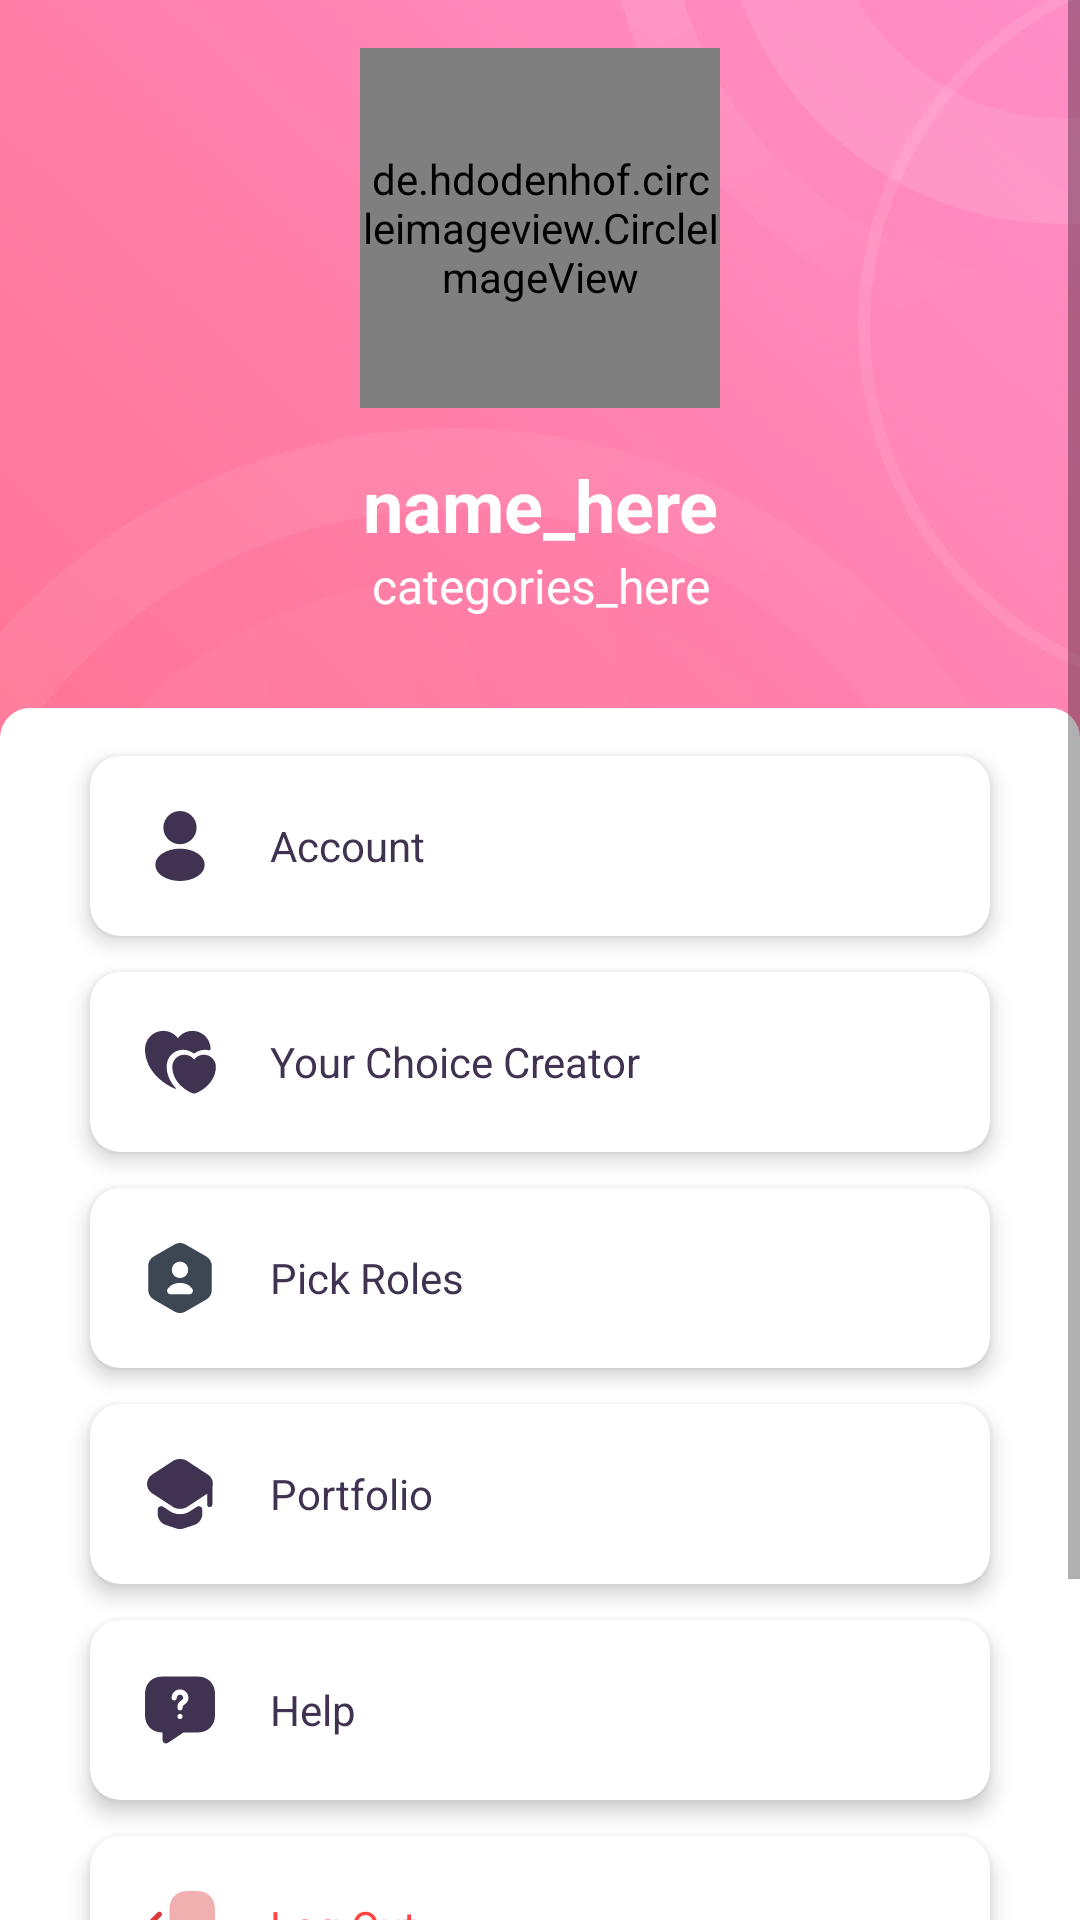

Screen size 1080×1920. Icon name, then its center in pixels as (x=x, y=y):
message question: (x=180, y=1710)
teacher: (x=180, y=1494)
user octagon: (x=180, y=1278)
